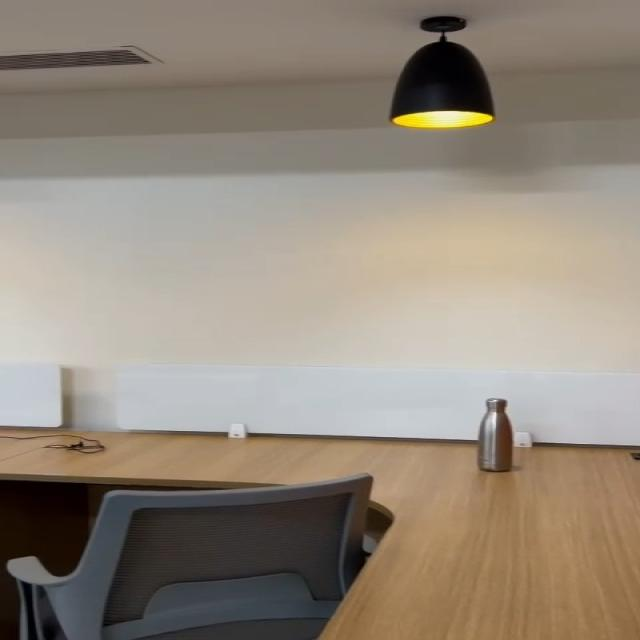furniture: (0, 460, 391, 640)
wall: (0, 82, 640, 360)
